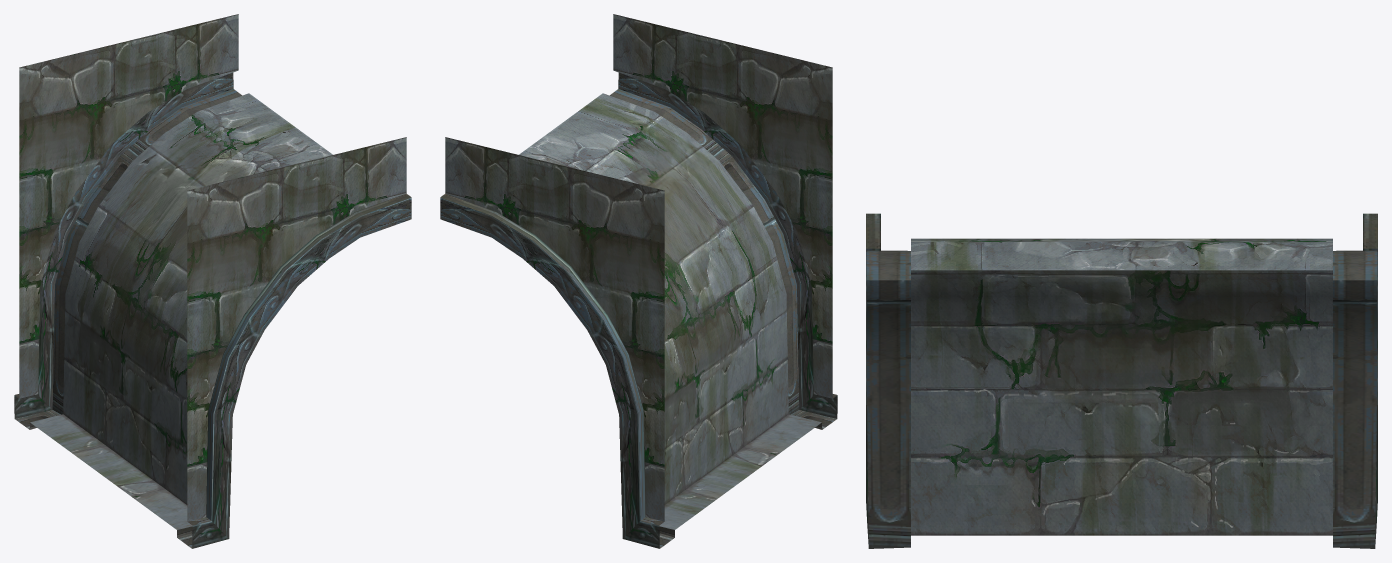
File: stemple_bridgesmall_transition_02.fbx
The picture shows the model from 3 angles, left to right: view 1: azimuth 30°, elevation 25°; view 2: azimuth 150°, elevation 25°; view 3: azimuth 270°, elevation 25°; orthographic projection. The views are drawn at different scales.
Parts seen in each view (by area): view 1: stemple_bridgesmall_transition_02-0; view 2: stemple_bridgesmall_transition_02-0; view 3: stemple_bridgesmall_transition_02-0.
Part boxes in pixels (<box>): stemple_bridgesmall_transition_02-0: <box>14,14,411,548</box>; stemple_bridgesmall_transition_02-0: <box>440,14,837,548</box>; stemple_bridgesmall_transition_02-0: <box>866,213,1377,548</box>.
Size of the model in its own units: 3.63 by 5.62 by 5.12.
